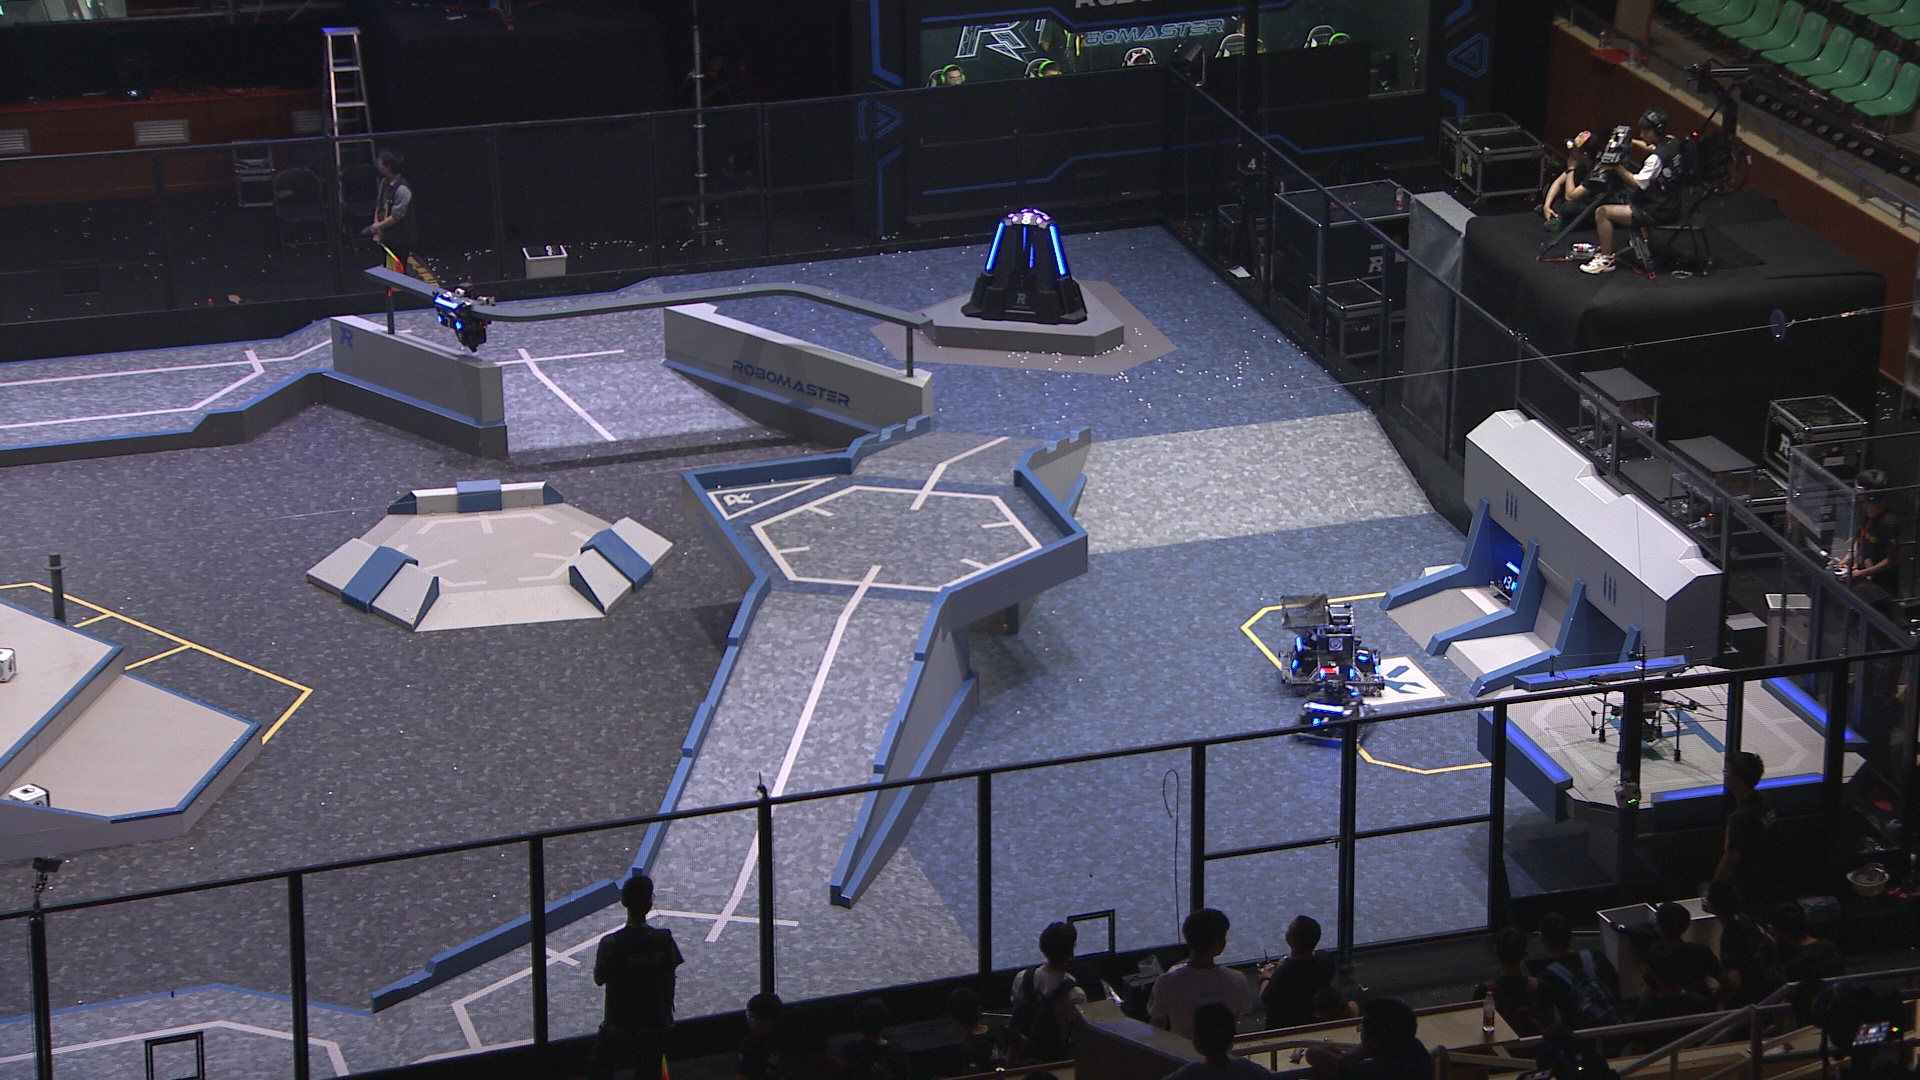armor: (982, 222, 1006, 273), (1046, 223, 1067, 277), (1320, 666, 1357, 683), (1305, 717, 1337, 735), (436, 314, 460, 330), (1356, 702, 1367, 727), (1354, 644, 1370, 659), (1503, 574, 1515, 593)
base: (957, 202, 1088, 322)
car: (1273, 591, 1385, 694), (1298, 676, 1385, 749), (1489, 549, 1556, 609)
ignore: (1011, 210, 1040, 225)
watcher: (430, 291, 496, 351)
